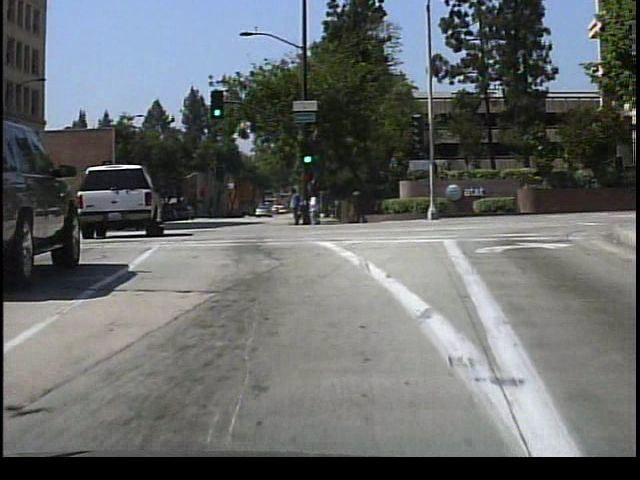person: (286, 180, 305, 228), (305, 189, 324, 226)
